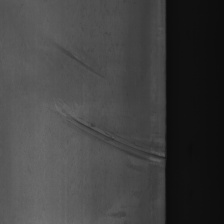crease: (54, 96, 166, 172)
